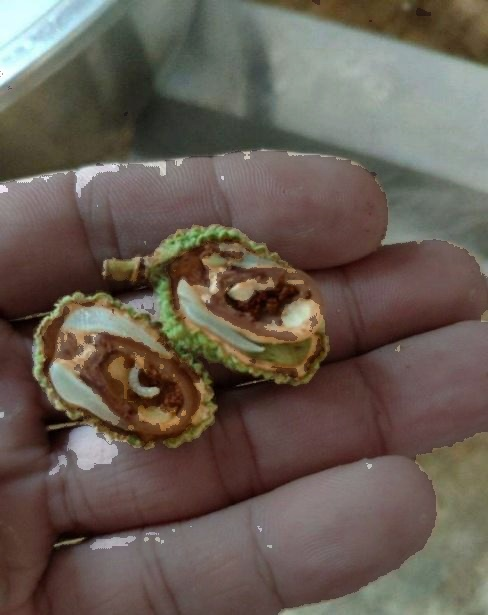Borer: (225, 267, 292, 308), (129, 356, 159, 402)
